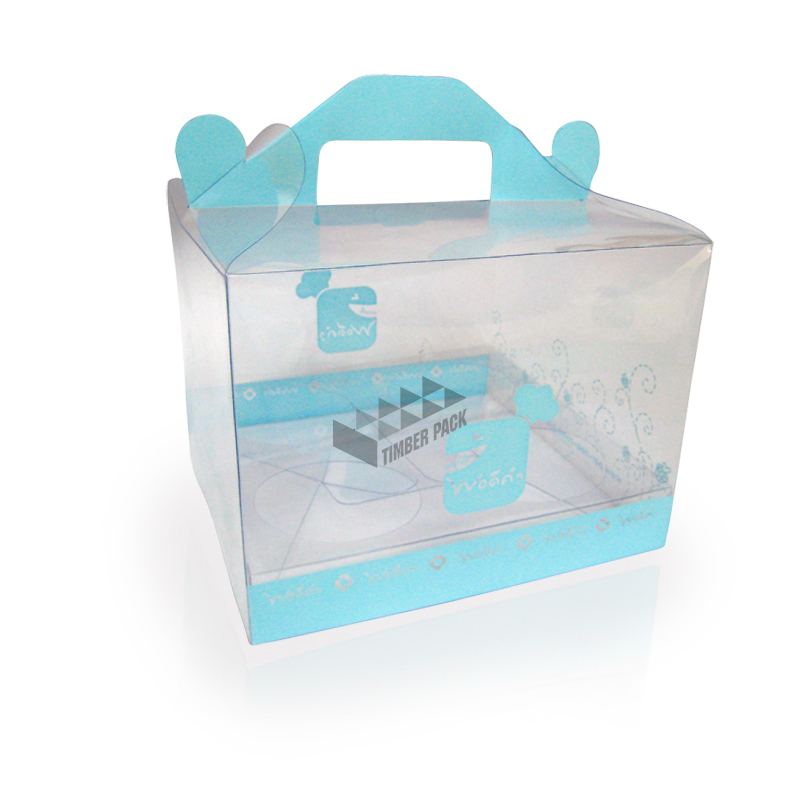PlasticBox: (161, 70, 717, 655)
